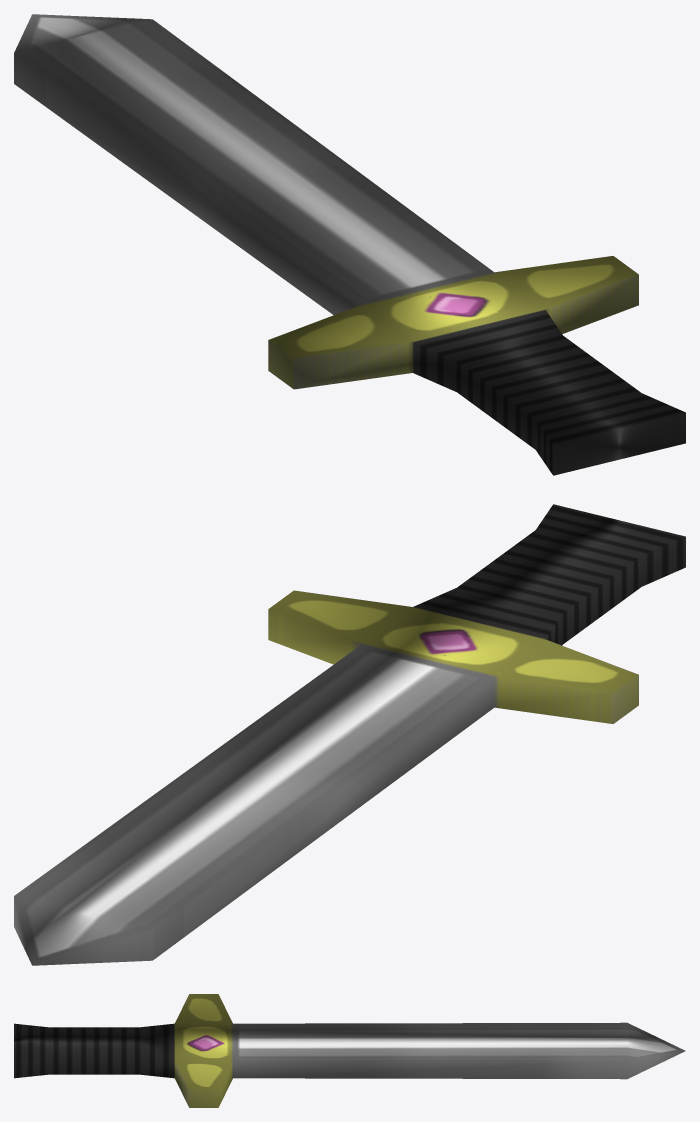
The model's file is Knife.fbx.
The picture shows the model from 3 angles, top to bottom: view 1: azimuth 30°, elevation 25°; view 2: azimuth 150°, elevation 25°; view 3: azimuth 270°, elevation 25°; orthographic projection. The views are drawn at different scales.
Parts seen in each view (by area): view 1: Knife; view 2: Knife; view 3: Knife.
Part boxes in pixels (x1,y1,x2,y2): Knife: [14, 14, 685, 475]; Knife: [14, 504, 685, 965]; Knife: [14, 994, 685, 1107].
Size of the model in its own units: 0.4212 by 0.036 by 1.24.
